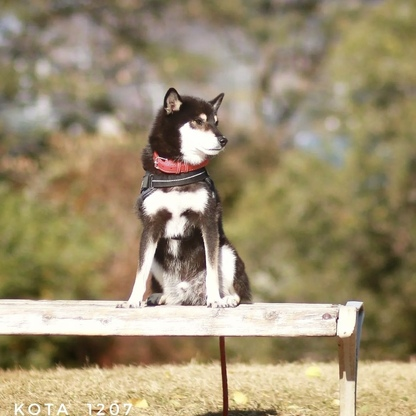shiba: (113, 84, 261, 309)
